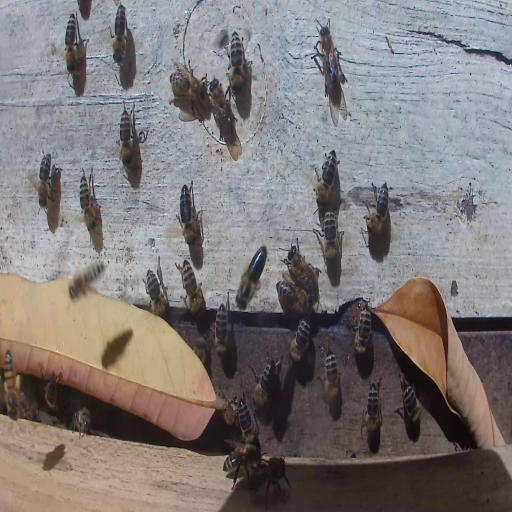bee: (232, 240, 268, 314), (206, 76, 238, 146), (317, 27, 344, 98), (176, 179, 204, 246), (252, 455, 292, 500), (169, 66, 206, 112), (68, 260, 106, 302), (284, 238, 316, 287), (222, 443, 258, 485), (313, 148, 338, 207), (79, 169, 101, 236), (398, 378, 424, 434), (178, 258, 203, 316), (319, 208, 343, 268), (322, 349, 343, 416), (252, 355, 277, 410), (366, 180, 390, 237), (276, 279, 312, 314), (3, 348, 22, 414), (145, 260, 168, 314), (228, 30, 246, 96), (353, 303, 374, 359), (112, 3, 130, 66), (118, 104, 134, 168), (364, 378, 381, 438), (288, 317, 310, 363), (64, 12, 80, 74), (236, 398, 258, 443), (38, 151, 53, 208), (213, 300, 228, 353), (70, 407, 93, 439), (191, 335, 208, 370), (18, 392, 38, 420), (45, 379, 59, 415)
